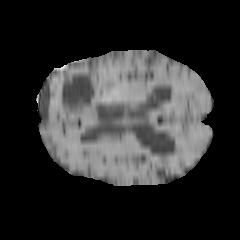glioma: (50, 67, 115, 142)
